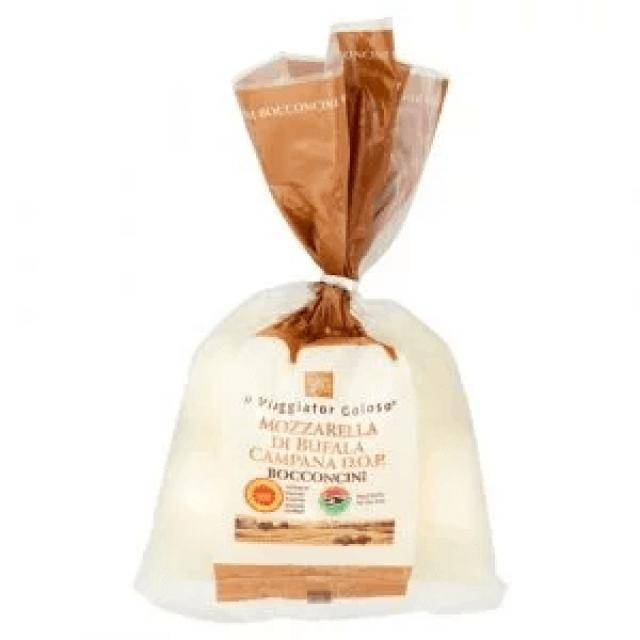Cheese: (132, 21, 503, 625)
